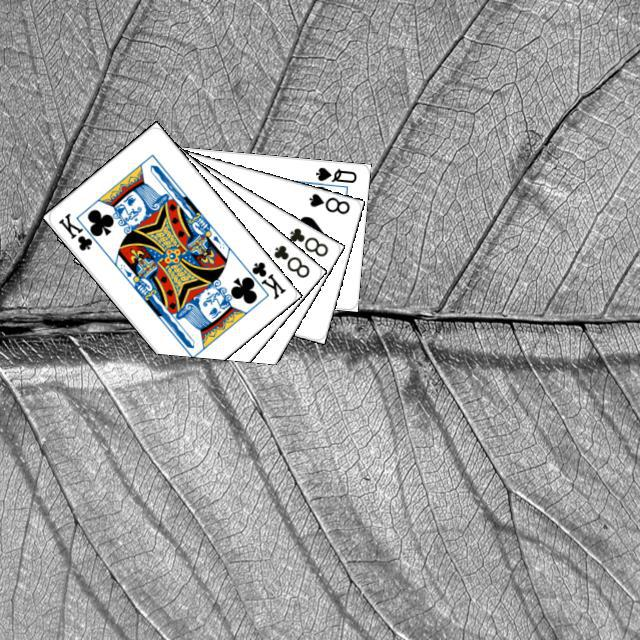8c: (269, 240, 312, 280), (284, 223, 330, 259)
8s: (304, 188, 352, 216)
Kc: (53, 208, 103, 252), (239, 257, 288, 301)
Qs: (311, 162, 358, 184)
